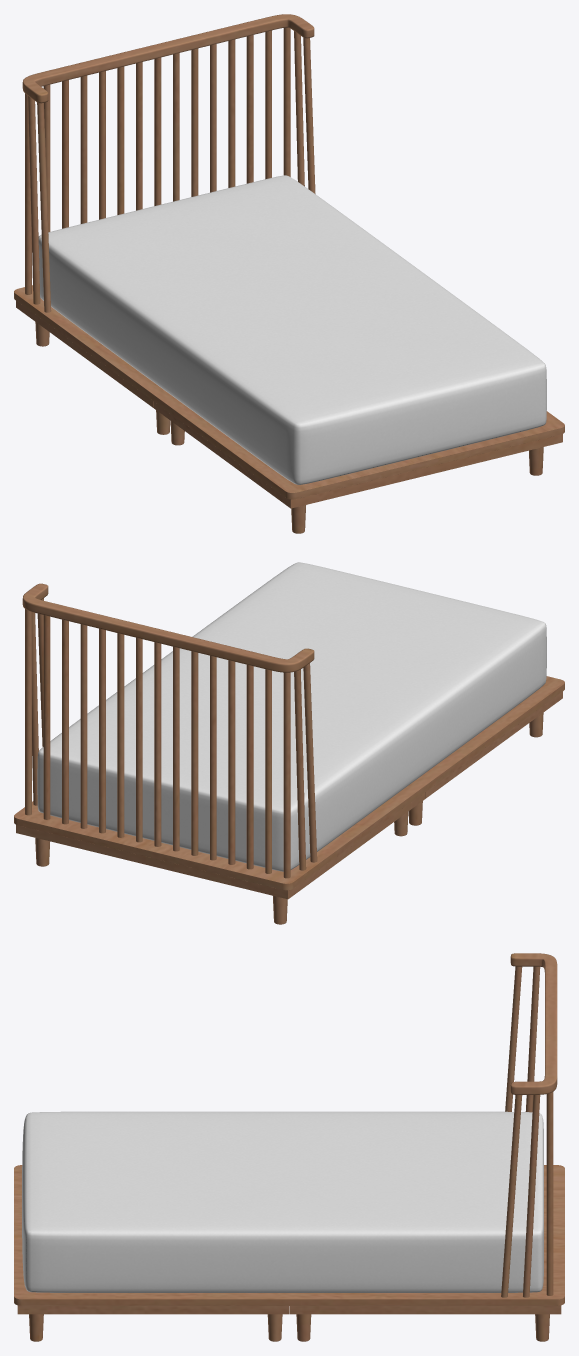
File: bed_14.fbx
3 views of the same model, one above another, from view 1: azimuth 30°, elevation 25°; view 2: azimuth 150°, elevation 25°; view 3: azimuth 270°, elevation 25° (orthographic).
Visible parts, largest first — view 1: bed_14.001; view 2: bed_14.001; view 3: bed_14.001.
Boxes of the visible parts, x1,y1,x2,y2 form: bed_14.001: [14, 14, 564, 533]; bed_14.001: [14, 562, 564, 924]; bed_14.001: [14, 953, 564, 1341].
Bounding box in the file's own units: 121 × 110 × 209.
Materials: 1 (1 with a texture image).
